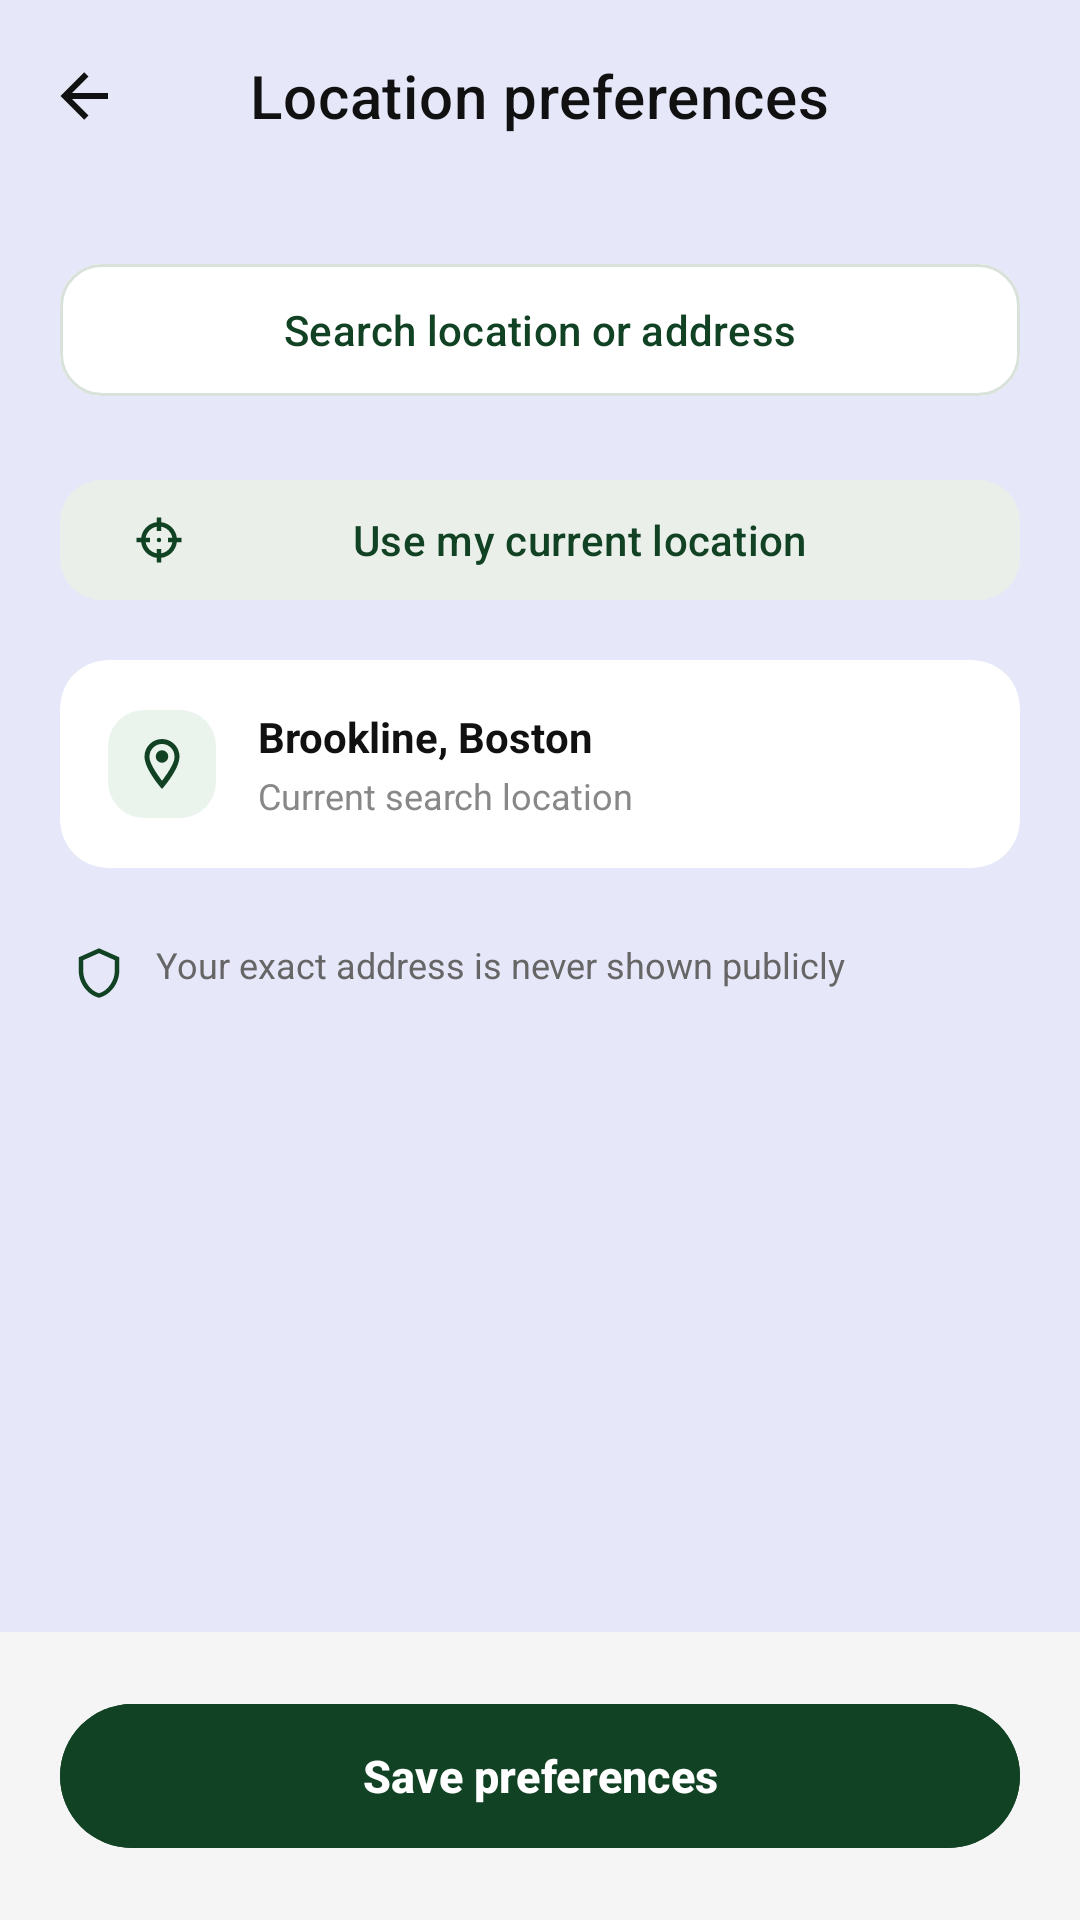

Locate icon controls on the screen. Image size 1080 x 1920, boxes as (x1, y1, x2, y2).
shield: (78, 948, 120, 998)
